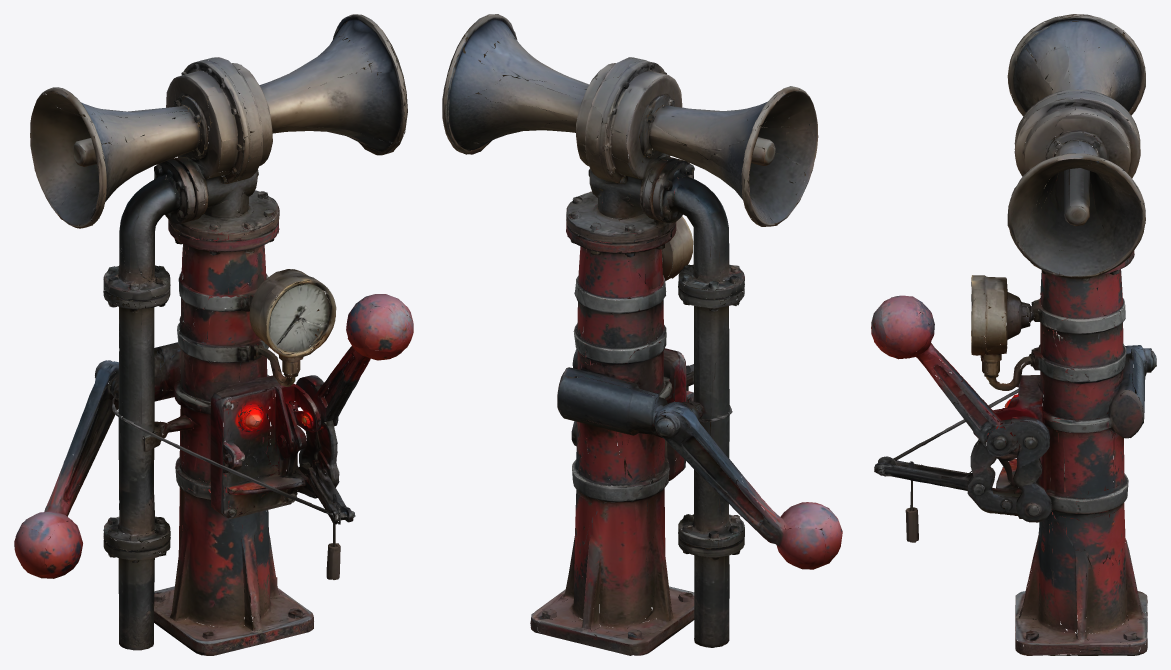
Rendered from geo_pressure_relief_siren.glb.
The picture shows the model from 3 angles, left to right: view 1: azimuth 30°, elevation 25°; view 2: azimuth 150°, elevation 25°; view 3: azimuth 270°, elevation 25°; orthographic projection. The views are drawn at different scales.
Parts seen in each view (by area): view 1: node_0; view 2: node_0; view 3: node_0.
Part boxes in pixels (<box>): node_0: <box>14,14,413,655</box>; node_0: <box>442,14,842,655</box>; node_0: <box>871,14,1156,655</box>.
Size of the model in its own units: 0.6533 by 0.9885 by 0.4737.
Materials: 1 (1 with a texture image).
